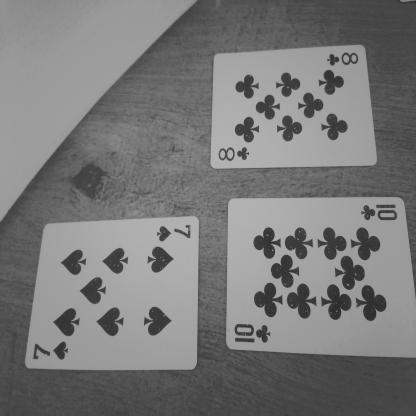10C: (356, 199, 412, 233)
7S: (146, 215, 206, 251)
8C: (314, 46, 367, 75)
